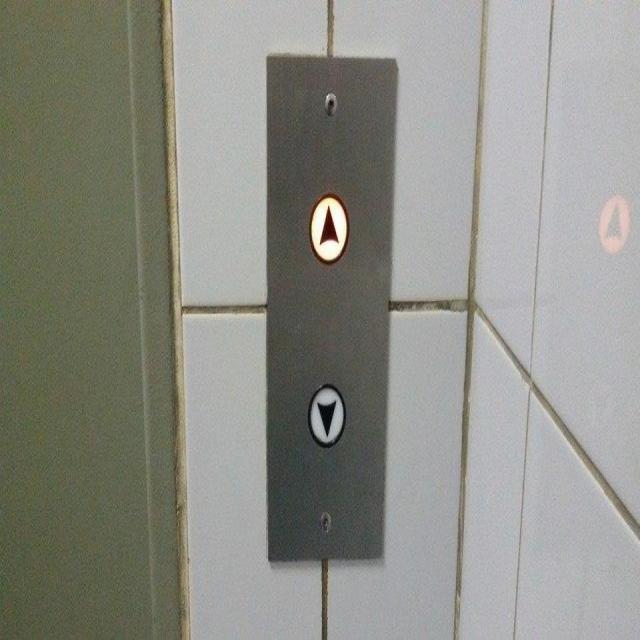down: (304, 374, 347, 456)
up: (306, 186, 349, 269), (591, 186, 634, 269)
